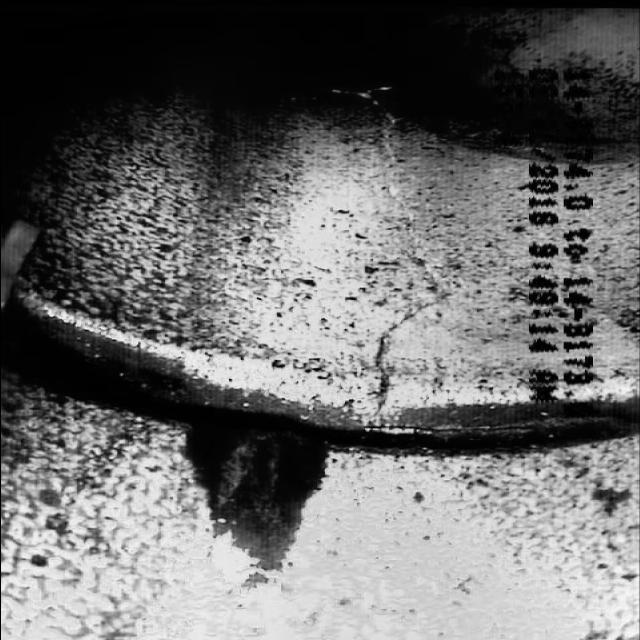Crack: (303, 156, 467, 412)
